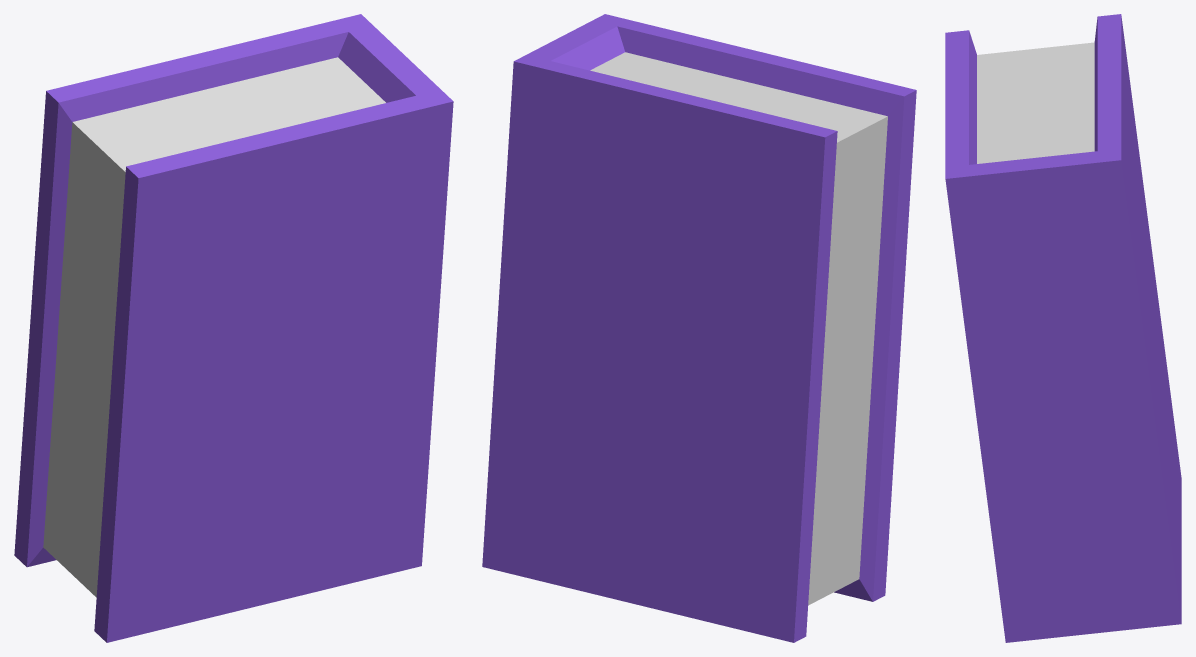
File: Libros.051.fbx
3 views of the same model, side by side, from view 1: azimuth 30°, elevation 25°; view 2: azimuth 150°, elevation 25°; view 3: azimuth 270°, elevation 25° (orthographic). The views are drawn at different scales.
Parts seen in each view (by area): view 1: Libros.051; view 2: Libros.051; view 3: Libros.051.
Part boxes in pixels (x1,y1,x2,y2): Libros.051: (14, 14, 453, 642); Libros.051: (482, 14, 916, 642); Libros.051: (945, 14, 1181, 642).
Bounding box in the file's own units: 26.52 × 40.83 × 18.1.
